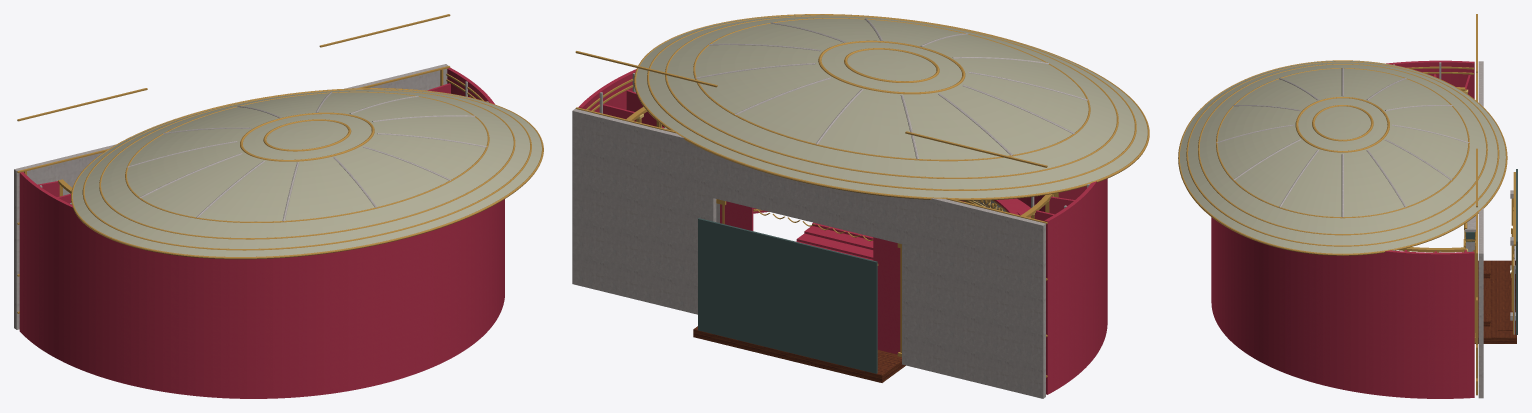
Rendered from venue.glb.
3 views of the same model, side by side, from view 1: azimuth 30°, elevation 25°; view 2: azimuth 150°, elevation 25°; view 3: azimuth 270°, elevation 25° (orthographic). The views are drawn at different scales.
Visible parts, largest first — view 1: Shell velvet, Ceiling ceiling, Ceiling gold, Front wall plaster, Ceiling plaster, Front wall gold; view 2: Ceiling ceiling, Front wall plaster, Stage set panel, Shell velvet, Ceiling gold, Curtain velvet, Ceiling plaster, Stage wood, Decks carpet, Front wall gold, Side boxes velvet; view 3: Ceiling ceiling, Shell velvet, Ceiling gold, Ceiling plaster, Stage wood, Front wall plaster, Stage set wood, Front wall gold, Stage set gold, Side boxes gold, Stage set panel.
Boxes of the visible parts, x1=… form: Shell velvet: x1=19, y1=67, x2=504, y2=398; Ceiling ceiling: x1=72, y1=89, x2=541, y2=256; Ceiling gold: x1=71, y1=88, x2=543, y2=259; Front wall plaster: x1=14, y1=64, x2=448, y2=329; Ceiling plaster: x1=127, y1=92, x2=487, y2=221; Front wall gold: x1=17, y1=14, x2=450, y2=313; Ceiling ceiling: x1=636, y1=15, x2=1147, y2=198; Front wall plaster: x1=572, y1=108, x2=1045, y2=398; Stage set panel: x1=698, y1=218, x2=877, y2=373; Shell velvet: x1=578, y1=69, x2=1107, y2=394; Ceiling gold: x1=634, y1=14, x2=1149, y2=200; Curtain velvet: x1=720, y1=201, x2=900, y2=354; Ceiling plaster: x1=695, y1=18, x2=1087, y2=159; Stage wood: x1=693, y1=326, x2=905, y2=382; Decks carpet: x1=796, y1=198, x2=1030, y2=260; Front wall gold: x1=575, y1=51, x2=1047, y2=377; Side boxes velvet: x1=603, y1=90, x2=1086, y2=220; Ceiling ceiling: x1=1180, y1=61, x2=1505, y2=253; Shell velvet: x1=1211, y1=60, x2=1474, y2=398; Ceiling gold: x1=1178, y1=60, x2=1507, y2=255; Ceiling plaster: x1=1216, y1=68, x2=1469, y2=217; Stage wood: x1=1475, y1=260, x2=1516, y2=343; Front wall plaster: x1=1478, y1=61, x2=1483, y2=398; Stage set wood: x1=1497, y1=267, x2=1512, y2=330; Front wall gold: x1=1476, y1=14, x2=1477, y2=395; Stage set gold: x1=1511, y1=172, x2=1515, y2=334; Side boxes gold: x1=1398, y1=87, x2=1465, y2=252; Stage set panel: x1=1516, y1=169, x2=1517, y2=334.
Bounding box in the file's own units: 28.28 × 13.27 × 20.89.
Materials: 10 (4 with a texture image).
